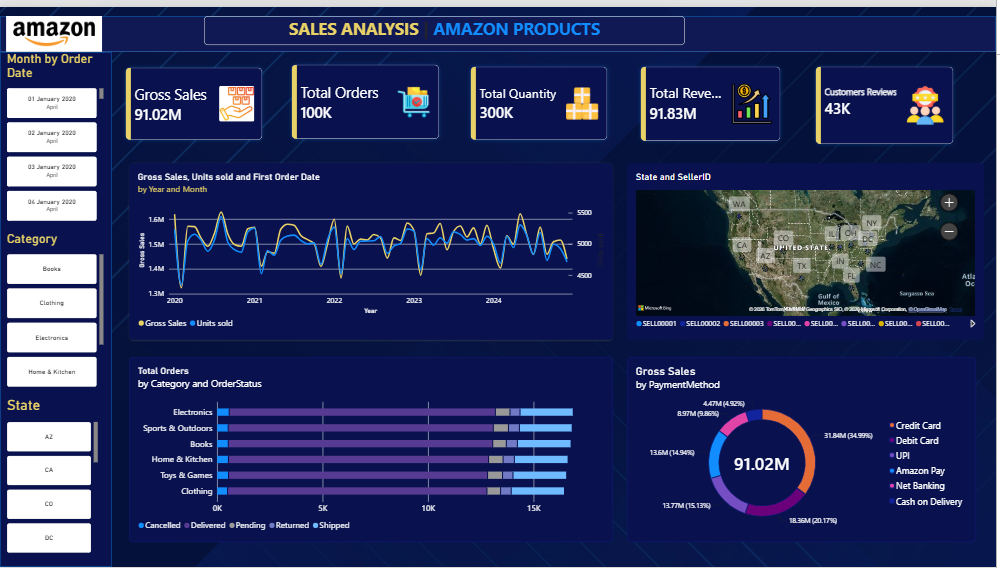

What the dashboard file says about the page in this screenshot:
{"tool":"powerbi","page":{"name":"Page 1","canvas":[1920,1080],"ordinal":0},"visuals":[{"type":"shape","box":[0,17.3,1920,69.4],"z":0},{"type":"textbox","box":[0,191.5,1920,150],"z":1},{"type":"textbox","box":[393.3,17.3,927.2,55.9],"z":3},{"type":"shape","box":[0,86.7,215.9,992.8],"z":4},{"type":"cardVisual","fields":{"Data":["Amazon.Gross Sales"]},"box":[231.3,106,285.3,161.9],"z":5},{"type":"cardVisual","fields":{"Data":["Amazon.Total Orders"]},"box":[551.3,100.2,306.5,165.8],"z":6},{"type":"cardVisual","fields":{"Data":["Sum(Amazon.Quantity)"]},"box":[896.4,104.1,285.3,163.9],"z":7},{"type":"cardVisual","fields":{"Data":["Sum(Amazon.TotalAmount)"]},"box":[1224.1,104.1,291.1,165.8],"z":8},{"type":"cardVisual","fields":{"Data":["Amazon.Unique Customers"]},"box":[1561.4,104.1,287.2,171.6],"z":9},{"type":"lineChart","fields":{"Category":["Amazon.OrderDate.Variation.Date Hierarchy.Year","Amazon.OrderDate.Variation.Date Hierarchy.Month"],"Y":["Amazon.Gross Sales"],"Y2":["Amazon.Units sold"]},"box":[231.3,300.7,933,341.2],"z":10},{"type":"barChart","fields":{"Category":["Amazon.OriginalCategory"],"Series":["Amazon.OrderStatus"],"Y":["Amazon.Total Orders"]},"box":[248.7,674.7,933,356.6],"z":11},{"type":"map","fields":{"Category":["Amazon.State"],"Series":["Amazon.SellerID"]},"box":[1208.7,300.7,688.2,341.2],"z":12},{"type":"donutChart","fields":{"Category":["Amazon.PaymentMethod"],"Y":["Amazon.Gross Sales"]},"box":[1208.7,674.7,672.8,356.6],"z":13},{"type":"advancedSlicerVisual","title":"Month by Order Date","fields":{"Label":["Min(Amazon.OrderDate.Variation.Date Hierarchy.Month)"],"Values":["Amazon.OrderDate"]},"box":[13.5,86.7,187,327.7],"z":14},{"type":"advancedSlicerVisual","title":"Category","fields":{"Values":["Amazon.OriginalCategory"]},"box":[13.5,433.7,187,300.7],"z":15},{"type":"advancedSlicerVisual","fields":{"Values":["Amazon.State"]},"box":[13.5,751.8,175.4,300.7],"z":16},{"type":"image","box":[7.7,17.3,192.8,69.4],"z":17}]}

Visuals, with their boxes in screenshot pixels (x1, y1, x2, y2), scaled from the page's 1920x1080 canvas onto the 1000x568 screenshot:
shape: [0, 9, 999, 46]
textbox: [0, 101, 999, 180]
textbox: [205, 9, 688, 38]
shape: [0, 46, 112, 567]
cardVisual - Amazon.Gross Sales: [120, 56, 269, 141]
cardVisual - Amazon.Total Orders: [287, 53, 447, 140]
cardVisual - Sum(Amazon.Quantity): [467, 55, 615, 141]
cardVisual - Sum(Amazon.TotalAmount): [638, 55, 789, 142]
cardVisual - Amazon.Unique Customers: [813, 55, 963, 145]
lineChart - Amazon.OrderDate.Variation.Date Hierarchy.Year x Amazon.OrderDate.Variation.Date Hierarchy.Month: [120, 158, 606, 338]
barChart - Amazon.OriginalCategory x Amazon.OrderStatus: [130, 355, 615, 542]
map - Amazon.State x Amazon.SellerID: [630, 158, 988, 338]
donutChart - Amazon.PaymentMethod x Amazon.Gross Sales: [630, 355, 980, 542]
"Month by Order Date" advancedSlicerVisual: [7, 46, 104, 218]
"Category" advancedSlicerVisual: [7, 228, 104, 386]
advancedSlicerVisual - Amazon.State: [7, 395, 98, 554]
image: [4, 9, 104, 46]
